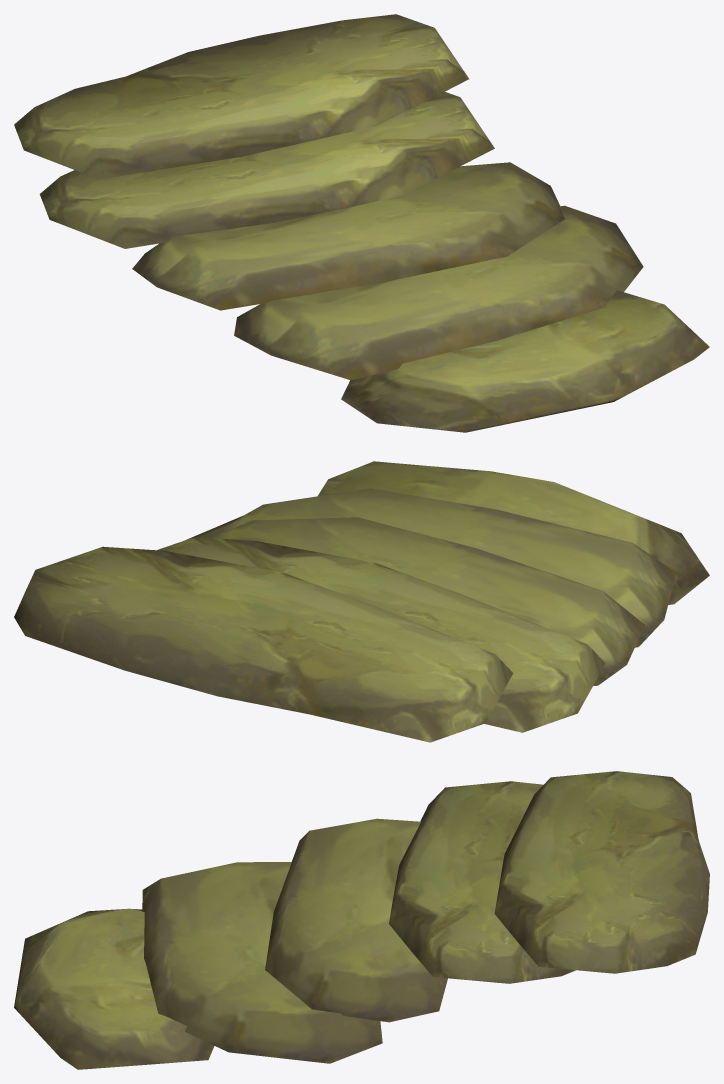
File: loyalismwood_road04.FBX
3 views of the same model, one above another, from view 1: azimuth 30°, elevation 25°; view 2: azimuth 150°, elevation 25°; view 3: azimuth 270°, elevation 25° (orthographic). The views are drawn at different scales.
Parts seen in each view (by area): view 1: loyalismwood_round04; view 2: loyalismwood_round04; view 3: loyalismwood_round04.
Part boxes in pixels (x1=…): loyalismwood_round04: x1=14, y1=14, x2=709, y2=432; loyalismwood_round04: x1=14, y1=461, x2=709, y2=742; loyalismwood_round04: x1=14, y1=771, x2=709, y2=1069.
Size of the model in its own units: 285 by 371 by 70.52.
